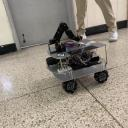cart: (46, 39, 109, 93)
